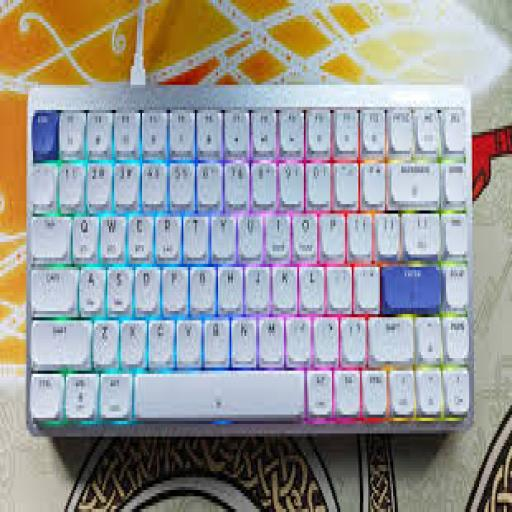keyboard: (26, 85, 471, 433)
